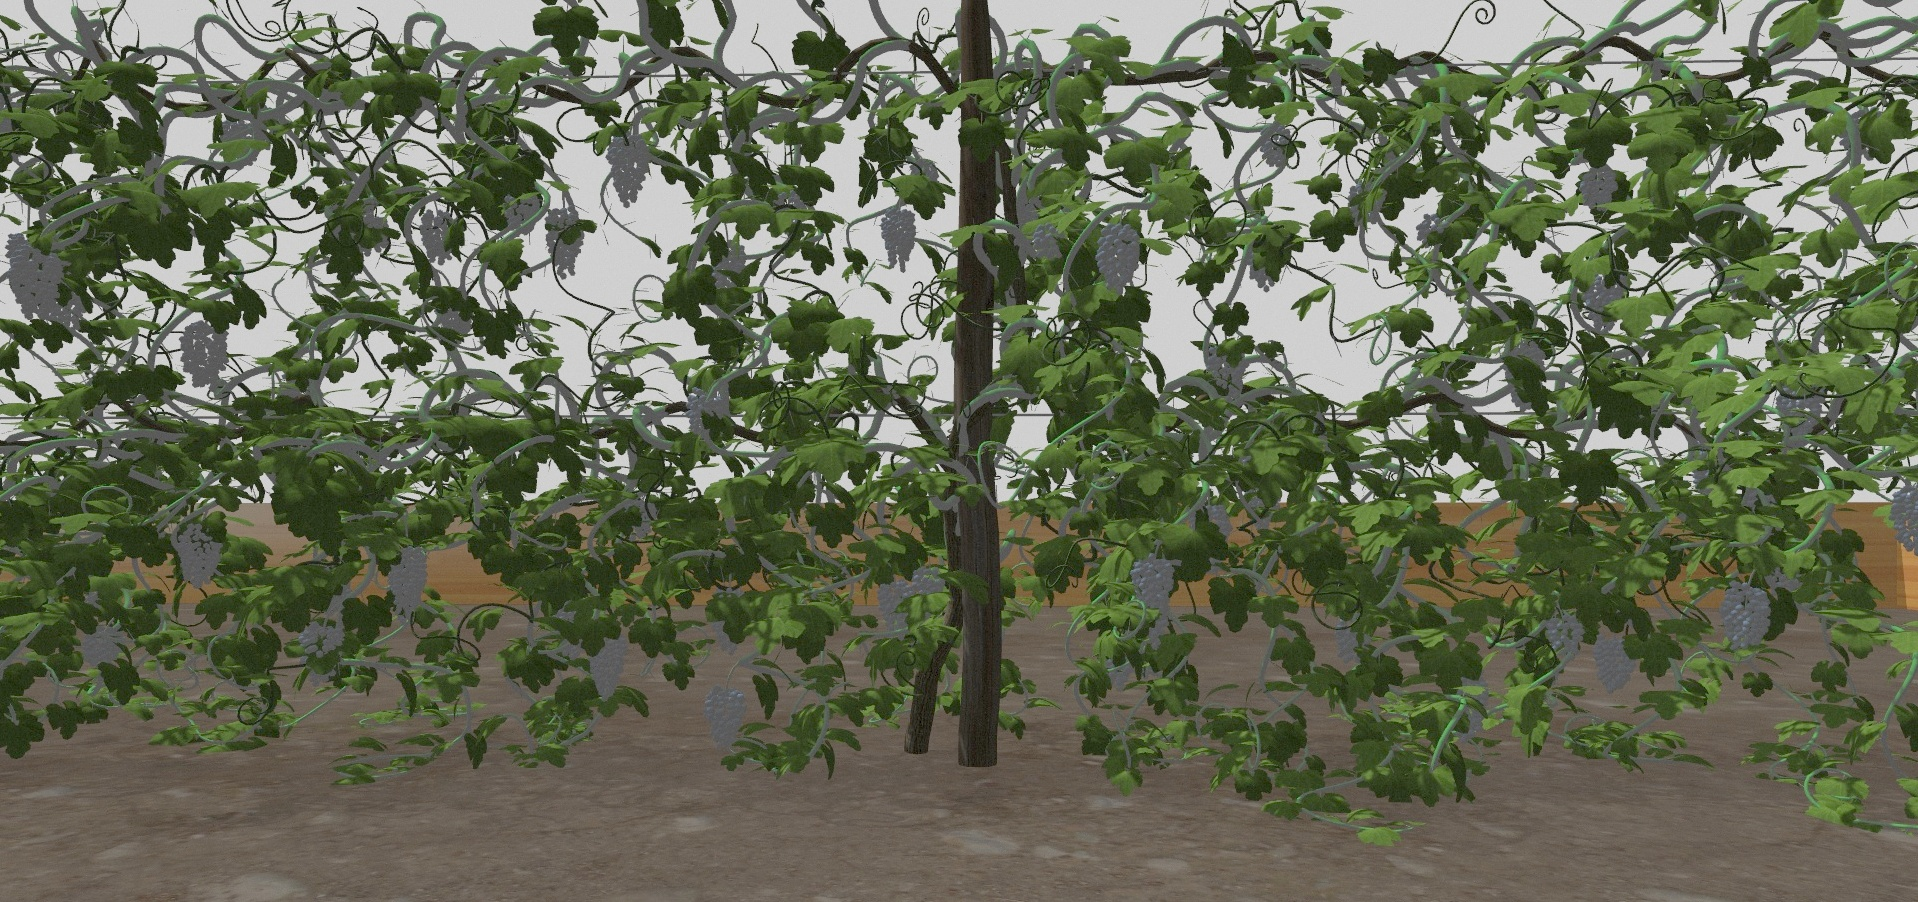grape: (5, 230, 64, 318), (1130, 554, 1176, 649), (1719, 580, 1772, 656), (603, 133, 653, 207), (385, 543, 429, 627), (179, 321, 231, 388), (1095, 222, 1142, 293), (170, 524, 221, 587), (1775, 381, 1827, 441), (703, 687, 747, 753), (546, 206, 585, 279), (1593, 633, 1635, 695), (685, 386, 730, 443), (588, 636, 628, 703), (879, 206, 917, 272), (78, 621, 124, 671), (418, 209, 459, 263), (1886, 487, 1916, 556), (877, 579, 913, 632), (297, 621, 346, 658), (1544, 614, 1585, 656), (1333, 617, 1370, 663), (503, 195, 543, 236), (1580, 165, 1618, 209), (1030, 223, 1065, 261), (1260, 126, 1292, 168), (913, 565, 946, 602)
